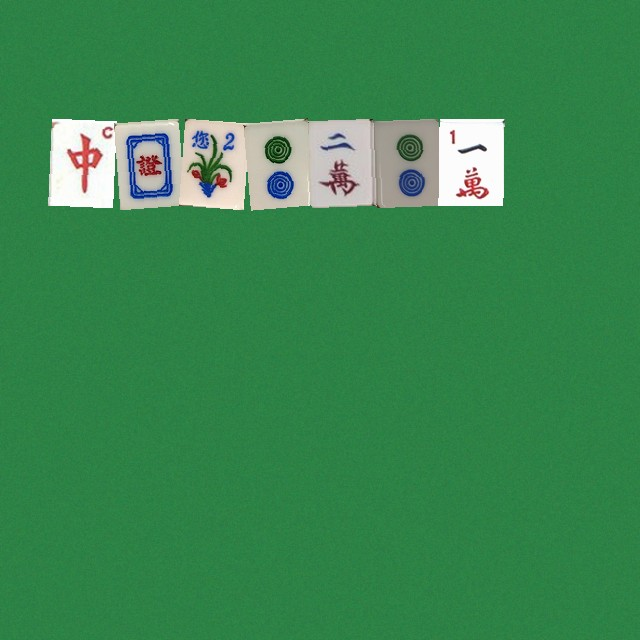tile: (48, 118, 113, 205), (113, 118, 178, 205), (178, 118, 243, 205), (243, 118, 308, 205), (308, 118, 373, 205), (373, 118, 438, 205), (438, 118, 503, 205)
